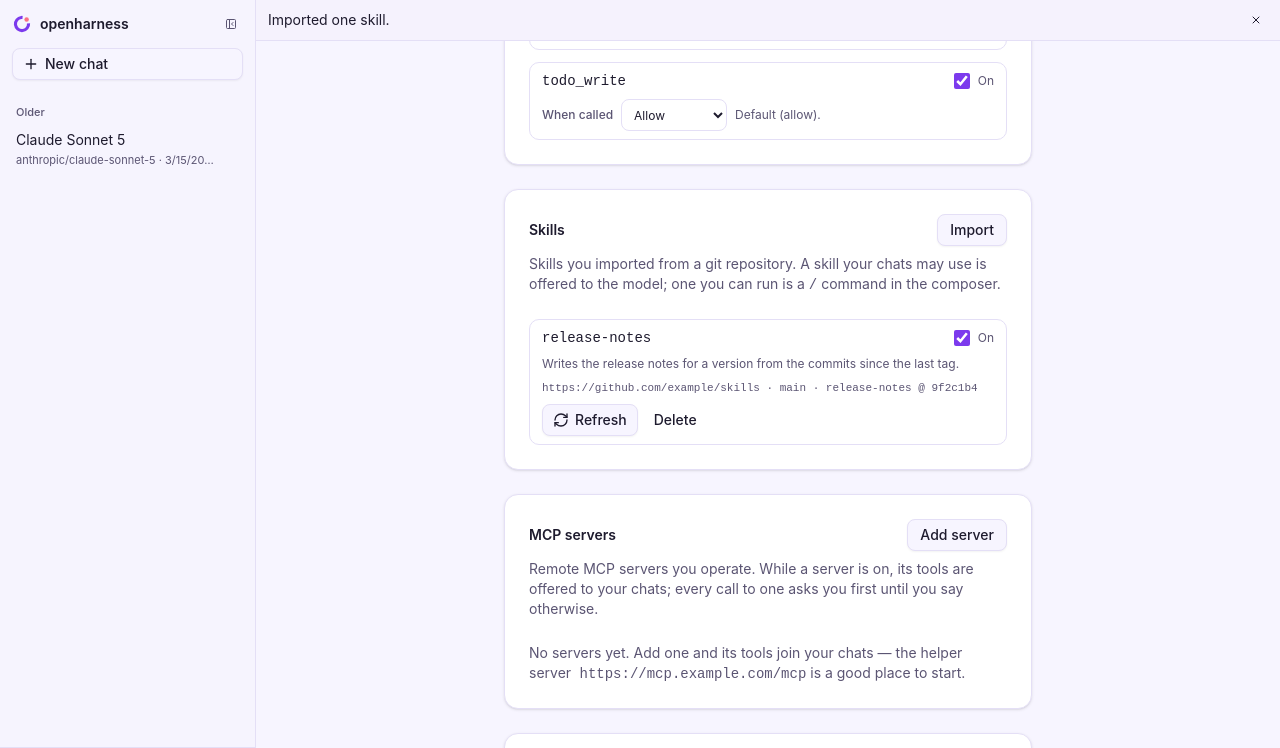
Scenario: Settings → Skills: the refresh (#349, K5; #353) › says unchanged when the source has not moved, and still offers the confirm
(page scrolled)
Click the button with aria-label "Refresh release-notes" at (590, 420), box [542,404,638,436]
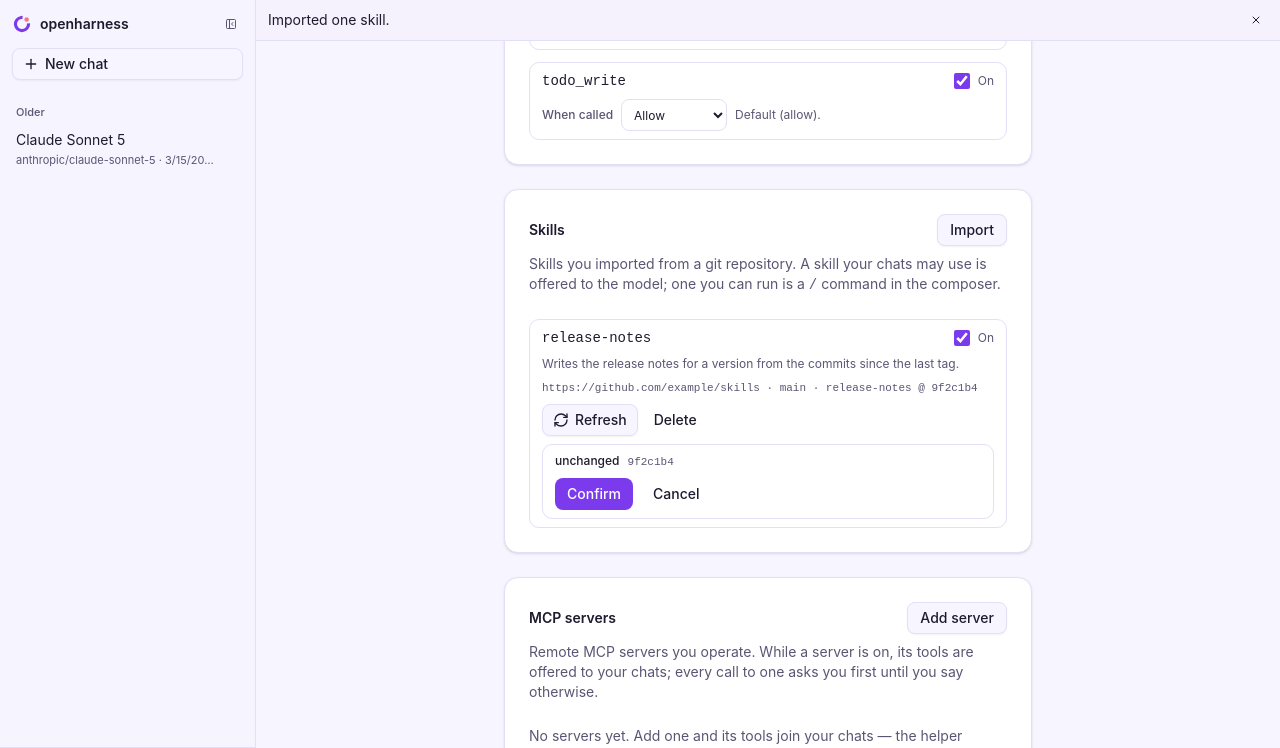
Click the button "Confirm" at (594, 494), box [555,478,633,510]
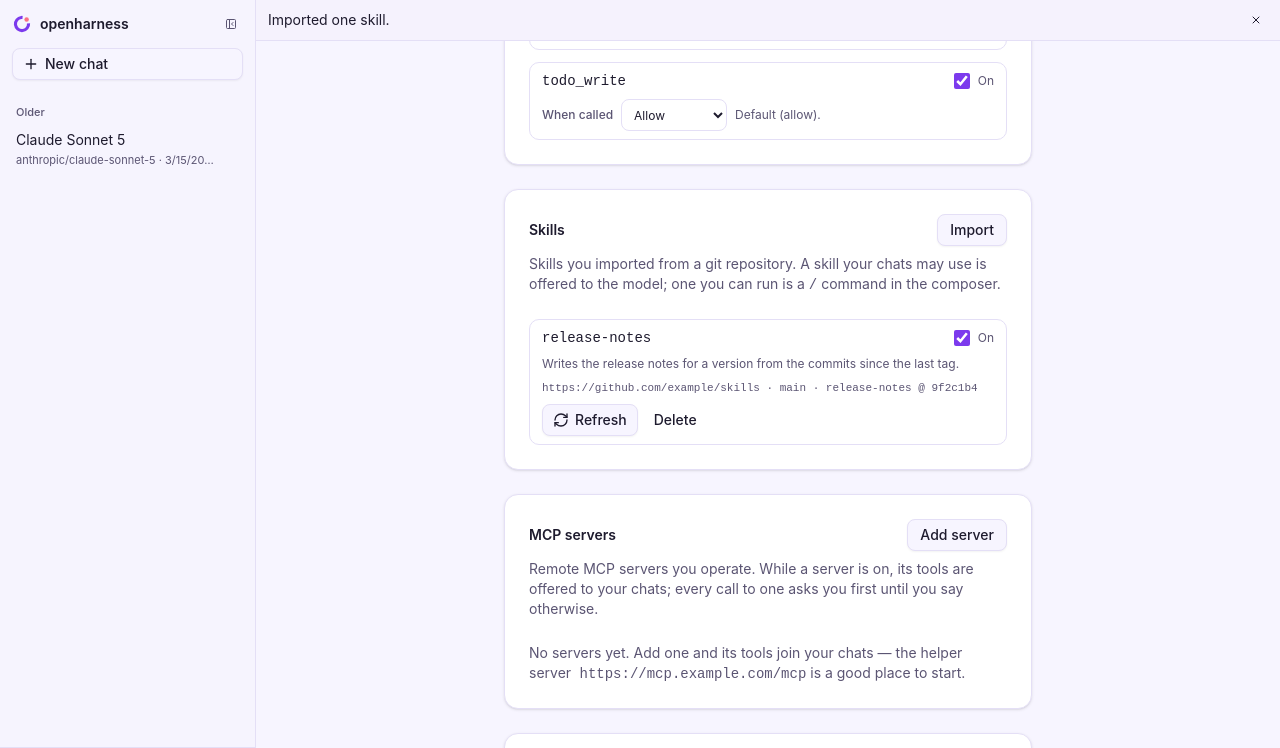
Check: the text "unchanged" is gone
